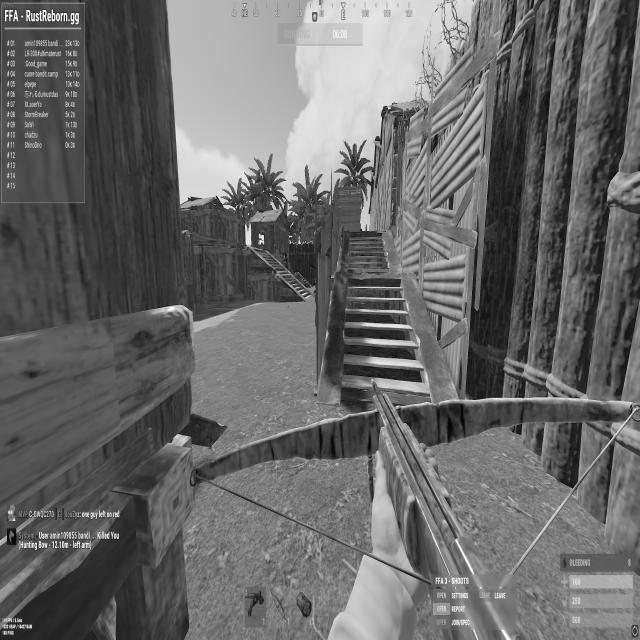Player: (282, 251, 288, 269), (284, 251, 287, 256)
